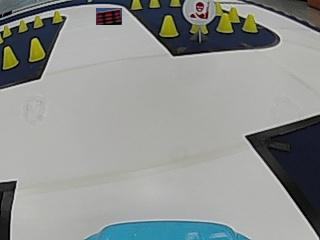evil: (182, 0, 215, 24)
